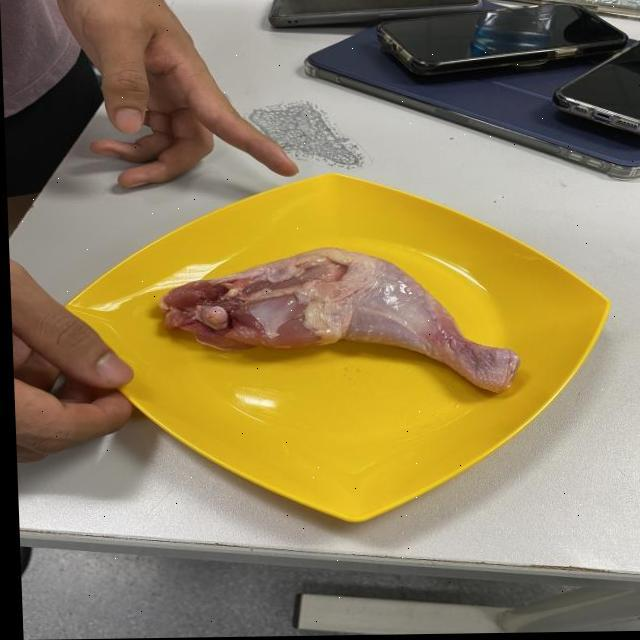quater: (170, 250, 522, 405)
